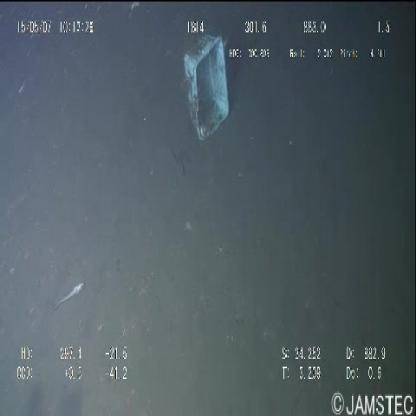Rác: (180, 25, 233, 148)
